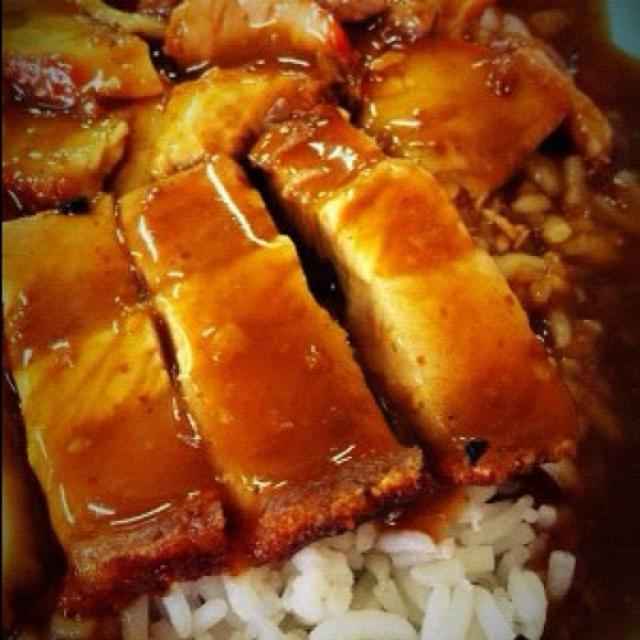猪肉菜式: (12, 26, 620, 613)
